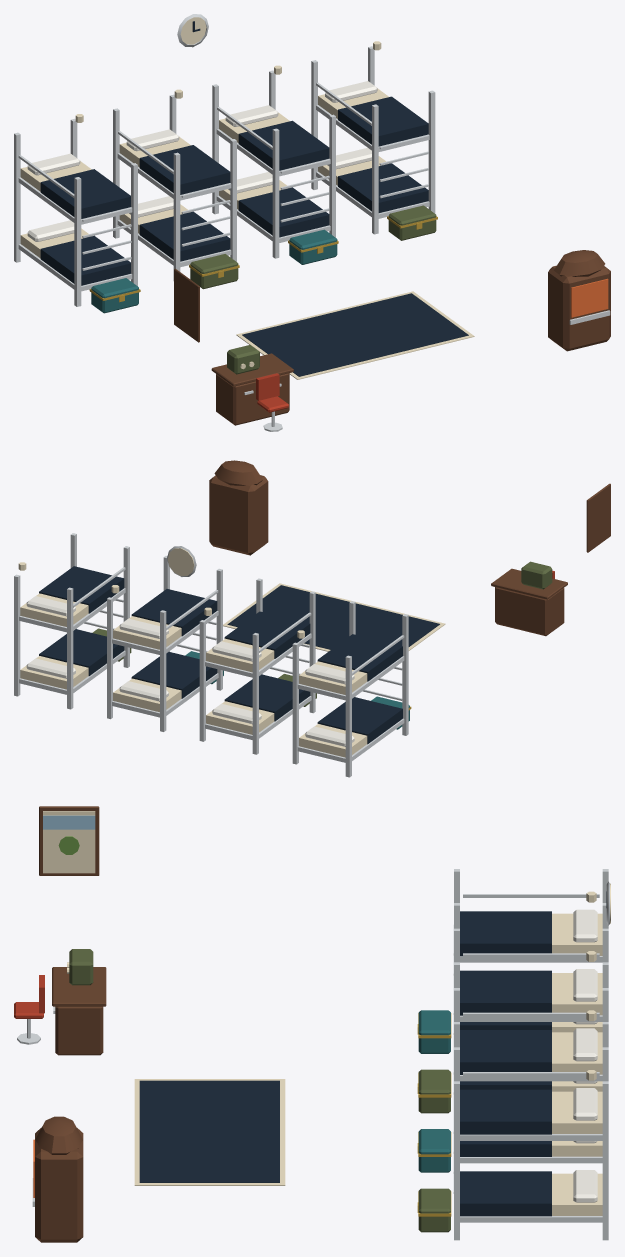
The model's file is Room_Quarters_L3.fbx.
The picture shows the model from 3 angles, top to bottom: view 1: azimuth 30°, elevation 25°; view 2: azimuth 150°, elevation 25°; view 3: azimuth 270°, elevation 25°; orthographic projection. The views are drawn at different scales.
Visible parts, largest first — view 1: Decor, Jukebox, Desk1, DecorNeon, Footlocker4, Footlocker3, Footlocker2, Footlocker1, Bunk1, Bunk2, Bunk6, Bunk4 (+1 smaller); view 2: Decor, Jukebox, Desk1, Bunk2, Bunk1, Bunk4, Bunk6, Bunk8, Bunk5, Bunk7, Bunk3; view 3: Decor, Jukebox, Desk1, Footlocker2, Footlocker4, Footlocker3, Footlocker1, Bunk5, Bunk7, Bunk8, Bunk6, Bunk2 (+1 smaller).
Part boxes in pixels (bbox=[...]): Decor: bbox=[14, 14, 610, 431]; Jukebox: bbox=[548, 265, 610, 351]; Desk1: bbox=[216, 373, 289, 425]; DecorNeon: bbox=[75, 41, 608, 317]; Footlocker4: bbox=[388, 205, 436, 240]; Footlocker3: bbox=[289, 229, 337, 264]; Footlocker2: bbox=[190, 254, 238, 289]; Footlocker1: bbox=[91, 278, 138, 313]; Bunk1: bbox=[18, 244, 132, 291]; Bunk2: bbox=[18, 177, 132, 224]; Bunk6: bbox=[216, 129, 330, 176]; Bunk4: bbox=[117, 153, 231, 200]; Decor: bbox=[14, 460, 610, 777]; Jukebox: bbox=[209, 475, 268, 555]; Desk1: bbox=[495, 587, 564, 636]; Bunk2: bbox=[297, 656, 404, 700]; Bunk1: bbox=[297, 718, 404, 762]; Bunk4: bbox=[205, 633, 311, 677]; Bunk6: bbox=[112, 611, 218, 654]; Bunk8: bbox=[19, 588, 125, 632]; Bunk5: bbox=[112, 673, 218, 717]; Bunk7: bbox=[19, 650, 125, 694]; Bunk3: bbox=[205, 696, 311, 739]; Decor: bbox=[14, 806, 610, 1240]; Jukebox: bbox=[35, 1127, 83, 1242]; Desk1: bbox=[55, 1006, 103, 1055]; Footlocker2: bbox=[418, 1069, 450, 1113]; Footlocker4: bbox=[418, 1188, 450, 1232]; Footlocker3: bbox=[418, 1129, 450, 1172]; Footlocker1: bbox=[418, 1010, 450, 1053]; Bunk5: bbox=[460, 1156, 602, 1163]; Bunk7: bbox=[460, 1216, 602, 1222]; Bunk8: bbox=[460, 1134, 602, 1140]; Bunk6: bbox=[460, 1074, 602, 1081]; Bunk2: bbox=[460, 956, 602, 962].
Size of the model in its own units: 29.2 by 13.72 by 29.72.
